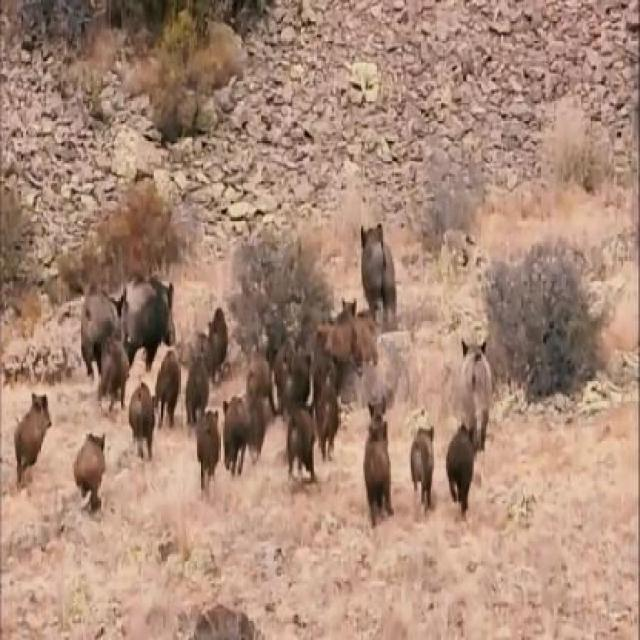pig: (346, 210, 412, 336), (0, 365, 57, 510), (452, 317, 512, 440), (123, 256, 187, 366), (77, 415, 113, 518)
